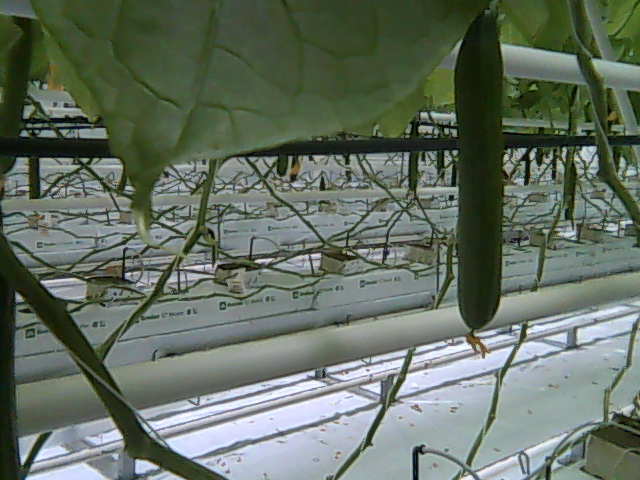concombre: (452, 5, 509, 364)
